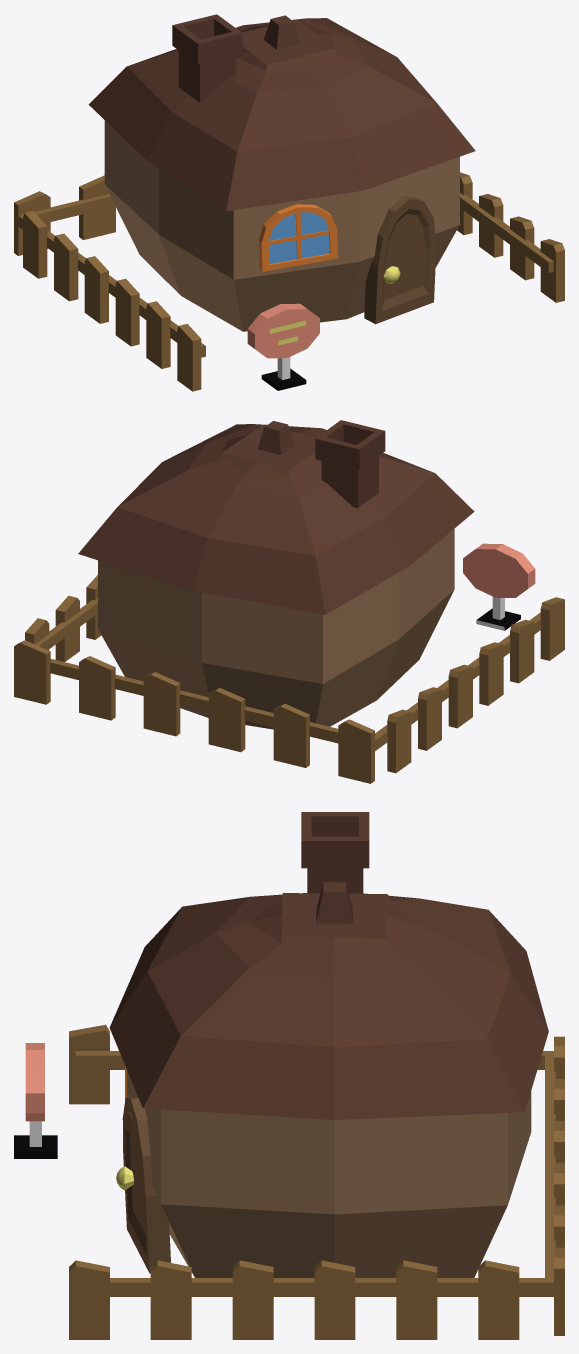
Rendered from dotoli_house1.fbx.
3 renders of one model, top to bottom at view 1: azimuth 30°, elevation 25°; view 2: azimuth 150°, elevation 25°; view 3: azimuth 270°, elevation 25°, orthographic. The views are drawn at different scales.
Visible parts, largest first — view 1: 도토리머리.001, 도토리몸통.001, 울타리.002, 창문둥글.002, 굴뚝.001, 창문둥글.001, 문패.001; view 2: 도토리머리.001, 도토리몸통.001, 울타리.002, 굴뚝.001, 문패.001; view 3: 도토리머리.001, 도토리몸통.001, 울타리.002, 굴뚝.001, 창문둥글.002, 문패.001.
Boxes of the visible parts, left/top/right/bottom form: 도토리머리.001: left=88, top=15, right=475, bottom=211; 도토리몸통.001: left=104, top=120, right=459, bottom=331; 울타리.002: left=14, top=172, right=564, bottom=391; 창문둥글.002: left=364, top=196, right=436, bottom=324; 굴뚝.001: left=172, top=14, right=242, bottom=102; 창문둥글.001: left=259, top=204, right=337, bottom=271; 문패.001: left=247, top=303, right=319, bottom=390; 도토리머리.001: left=78, top=421, right=474, bottom=614; 도토리몸통.001: left=98, top=529, right=454, bottom=729; 울타리.002: left=14, top=575, right=564, bottom=783; 굴뚝.001: left=315, top=420, right=385, bottom=508; 문패.001: left=463, top=543, right=535, bottom=630; 도토리머리.001: left=109, top=882, right=548, bottom=1119; 도토리몸통.001: left=127, top=1070, right=531, bottom=1277; 울타리.002: left=69, top=1024, right=564, bottom=1339; 굴뚝.001: left=301, top=812, right=369, bottom=893; 창문둥글.002: left=122, top=1096, right=170, bottom=1273; 문패.001: left=14, top=1043, right=57, bottom=1158.
Size of the model in its own units: 1302 by 897 by 1255.
